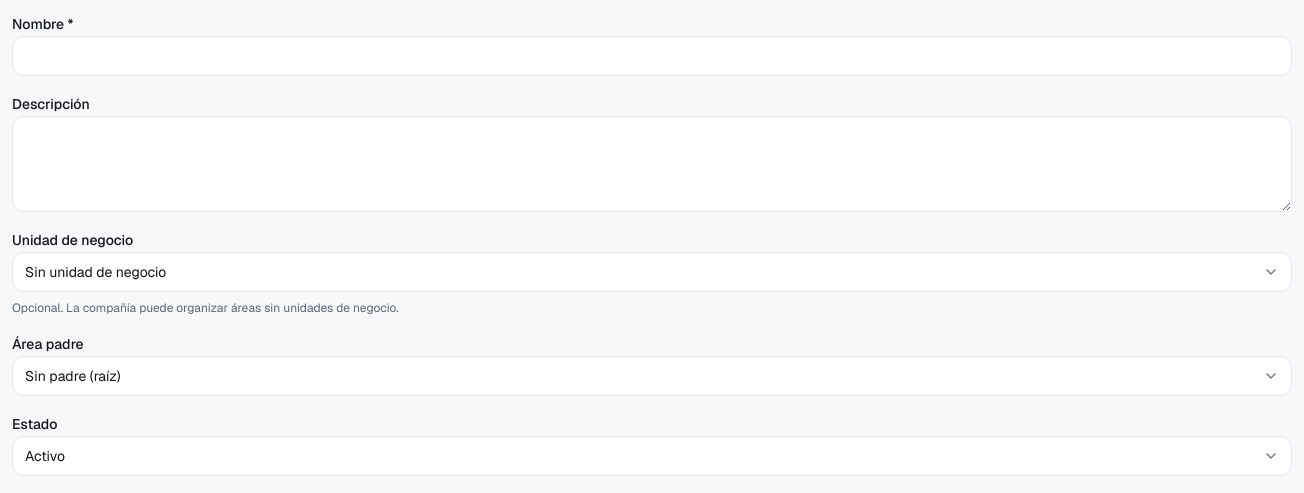
AreaForm business unit field › marks unidad de negocio as optional and offers a clear empty option
Expected: the text "Unidad de negocio" is shown, [12, 231, 133, 249]
Expected: the text "Opcional. La compañía puede organizar áreas sin unidades de negocio." is shown, [12, 300, 399, 316]
Click the dropdown with id "area-bu" at (96, 272), box [12, 252, 1292, 292]
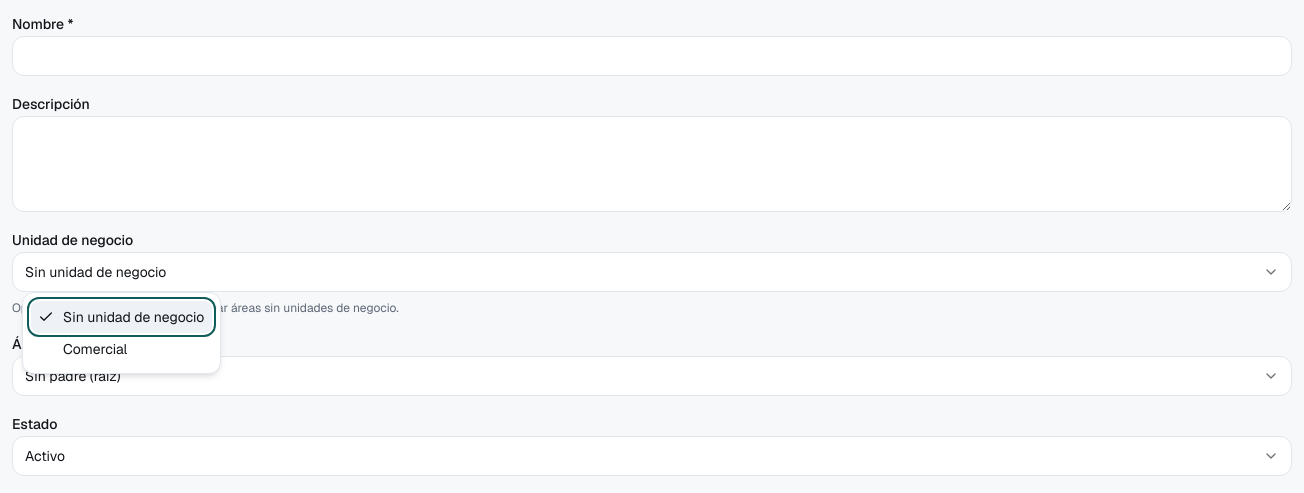
Expected: the option "Sin unidad de negocio" is shown, [31, 301, 212, 333]
Expected: the option "Comercial" is shown, [63, 340, 127, 358]
